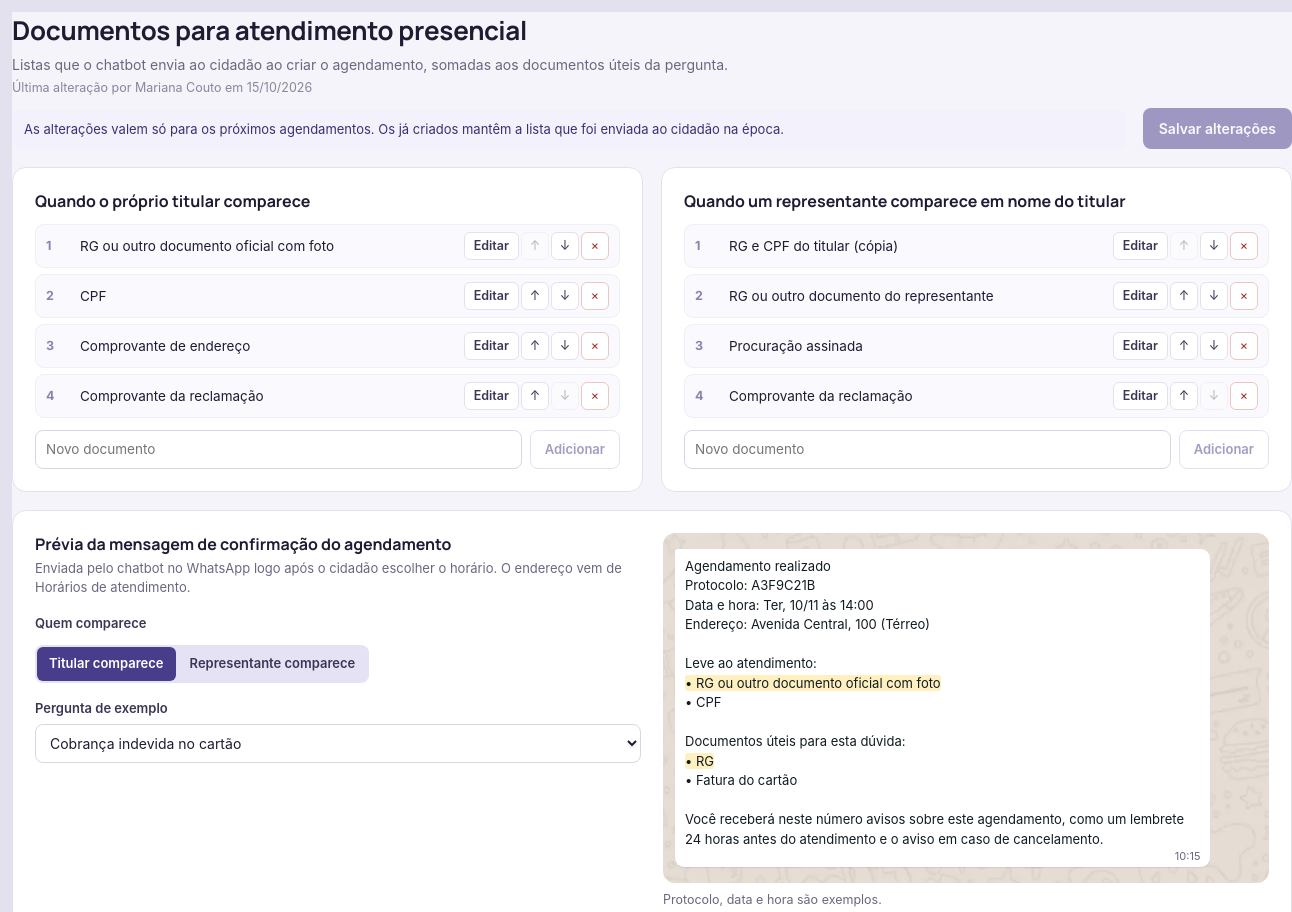
it: DocumentsPage › edita um item inline
Click the button "Comprovante da reclamação" below "Quando o próprio titular comparece" at (172, 396), box [75,384,459,409]
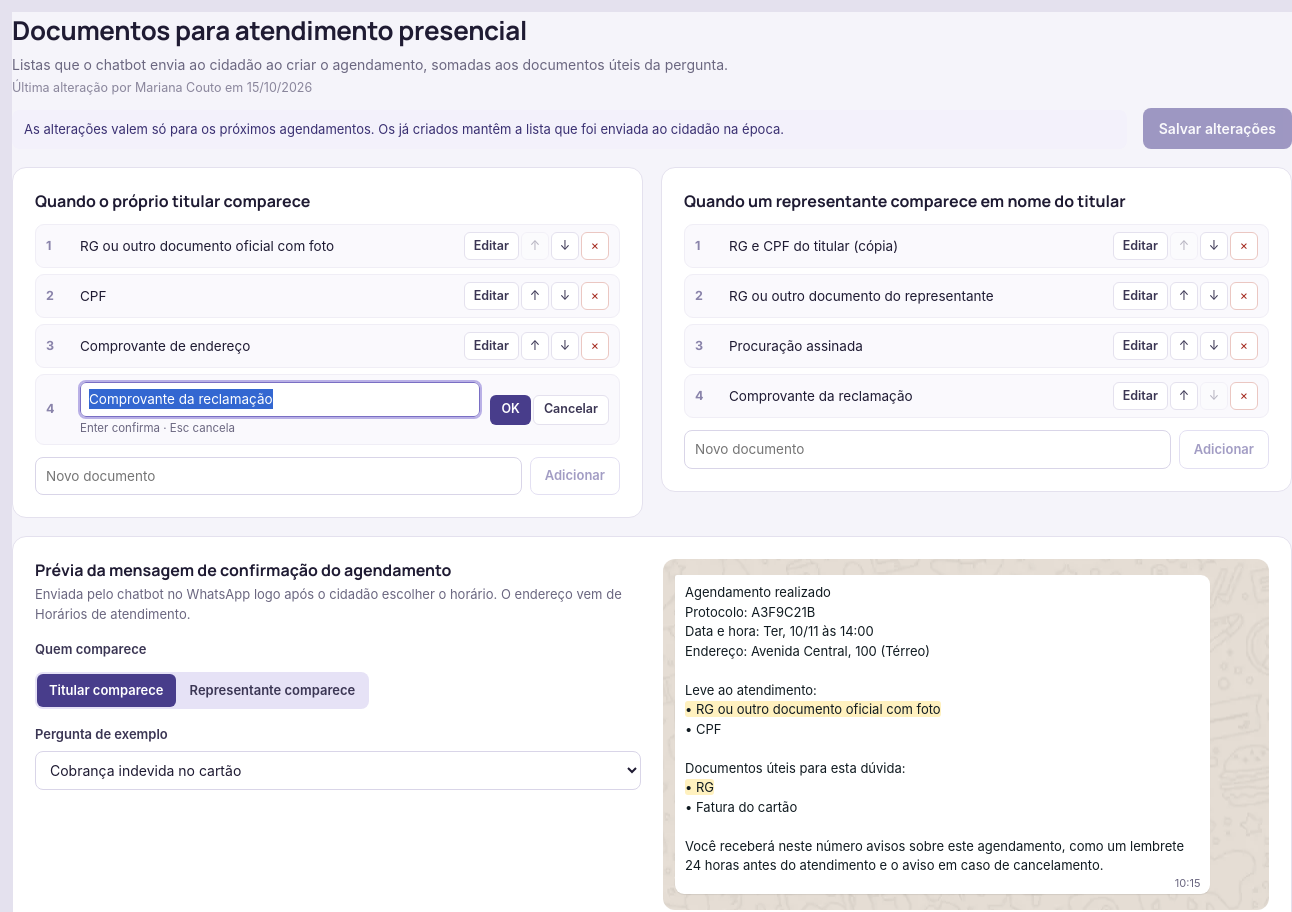
Replace the text in the field named "Editar Comprovante da reclamação" with "Nota fiscal ou contrato" at (280, 399), box [80,382,480,417]
Then press Enter
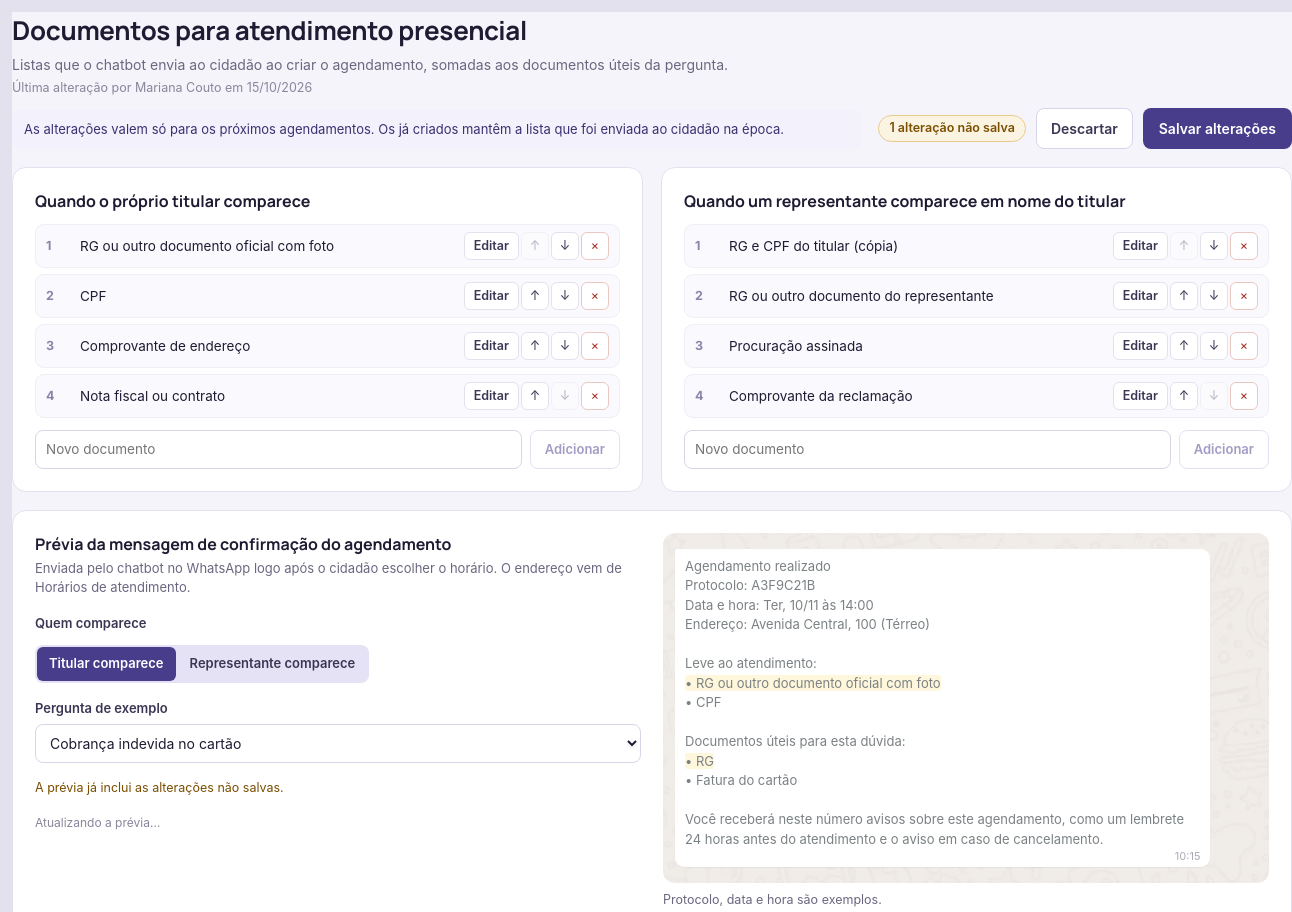
Expected: the button "Nota fiscal ou contrato" is shown, [75,384,459,409]
Expected: the button "1 alteração não salva" is shown, [878,115,1026,142]
